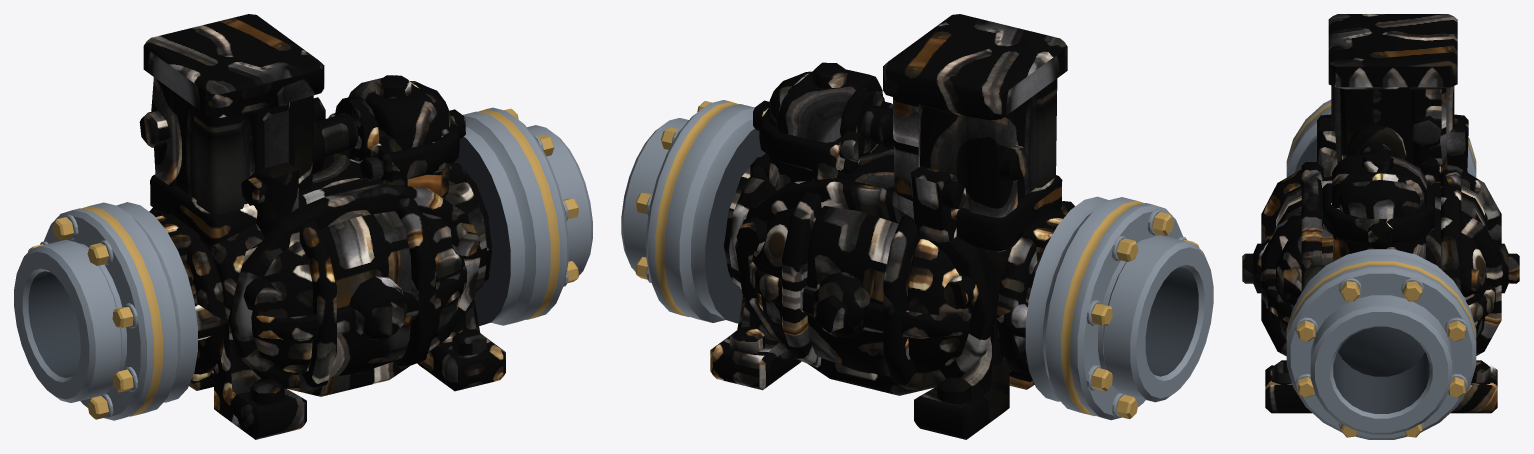
File: Pump_shape_cleanup.fbx
3 views of the same model, side by side, from view 1: azimuth 30°, elevation 25°; view 2: azimuth 150°, elevation 25°; view 3: azimuth 270°, elevation 25° (orthographic). The views are drawn at different scales.
Parts seen in each view (by area): view 1: tripo_convert_23e97eb0_8bde_402a_bfff_ac4c4e33ca50; view 2: tripo_convert_23e97eb0_8bde_402a_bfff_ac4c4e33ca50; view 3: tripo_convert_23e97eb0_8bde_402a_bfff_ac4c4e33ca50.
Part boxes in pixels (x1,y1,x2,y2): tripo_convert_23e97eb0_8bde_402a_bfff_ac4c4e33ca50: [14, 14, 592, 439]; tripo_convert_23e97eb0_8bde_402a_bfff_ac4c4e33ca50: [621, 14, 1213, 439]; tripo_convert_23e97eb0_8bde_402a_bfff_ac4c4e33ca50: [1242, 14, 1519, 439].
Size of the model in its own units: 0.998 by 0.6201 by 0.5371.
